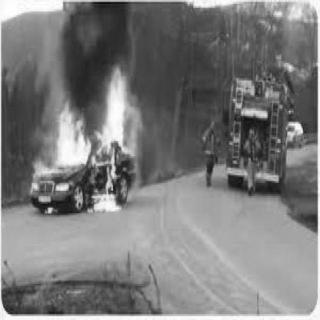Fire: (92, 178, 122, 212)
Smoke: (132, 2, 172, 102)
